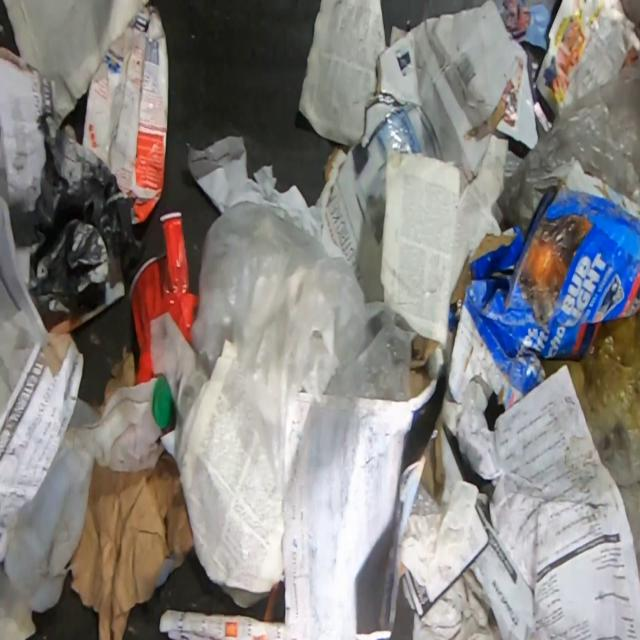cardboard: (322, 4, 524, 309), (446, 158, 640, 412), (79, 4, 169, 228)
rigid_plastic: (129, 212, 199, 386)
soft_plastic: (496, 56, 640, 580), (189, 202, 409, 492), (30, 110, 146, 322), (0, 201, 18, 278), (409, 482, 444, 516)
